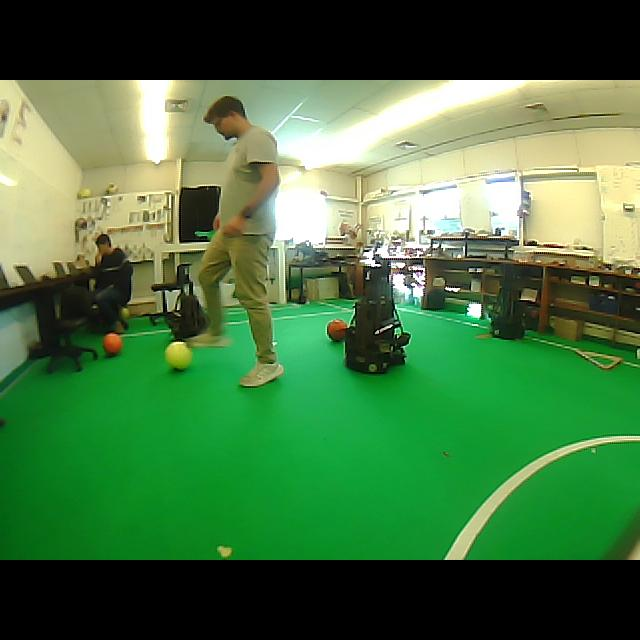ball: (165, 341, 192, 370), (326, 319, 347, 341), (103, 332, 122, 356), (120, 307, 129, 330), (105, 182, 119, 194), (78, 188, 92, 199)
goal: (276, 241, 286, 304)
robot: (345, 265, 410, 373), (168, 264, 208, 339), (491, 266, 522, 338)
